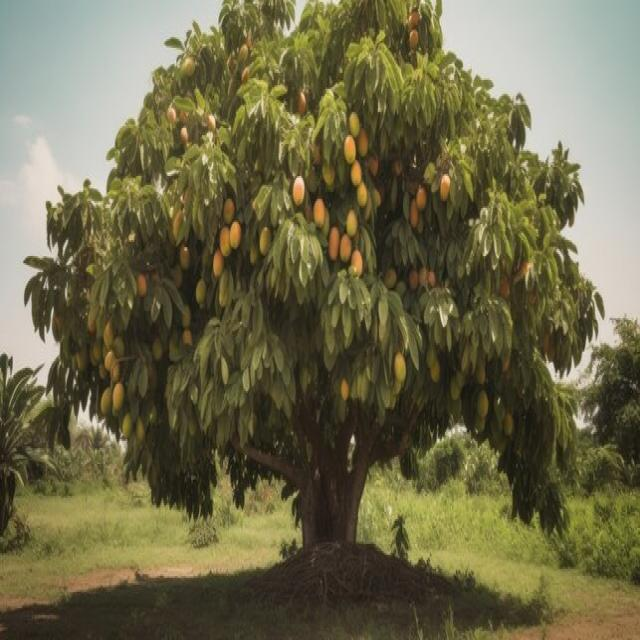Mango-Tree: (20, 3, 615, 543)
